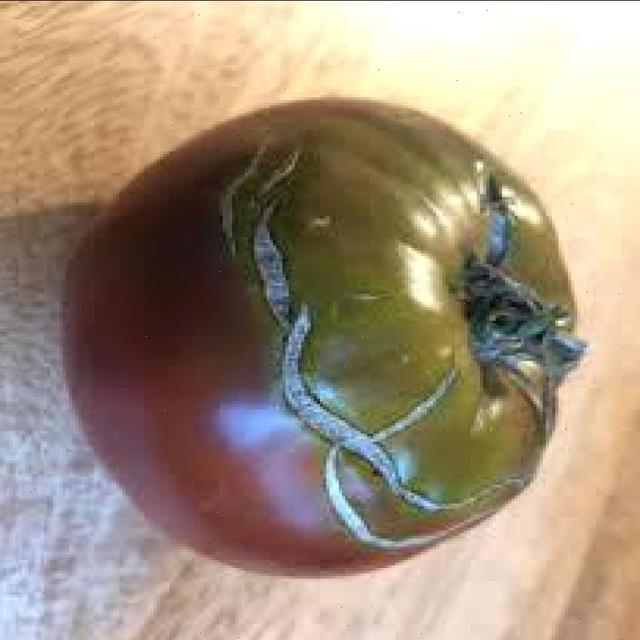Cracking Fruit: (61, 112, 322, 291)
